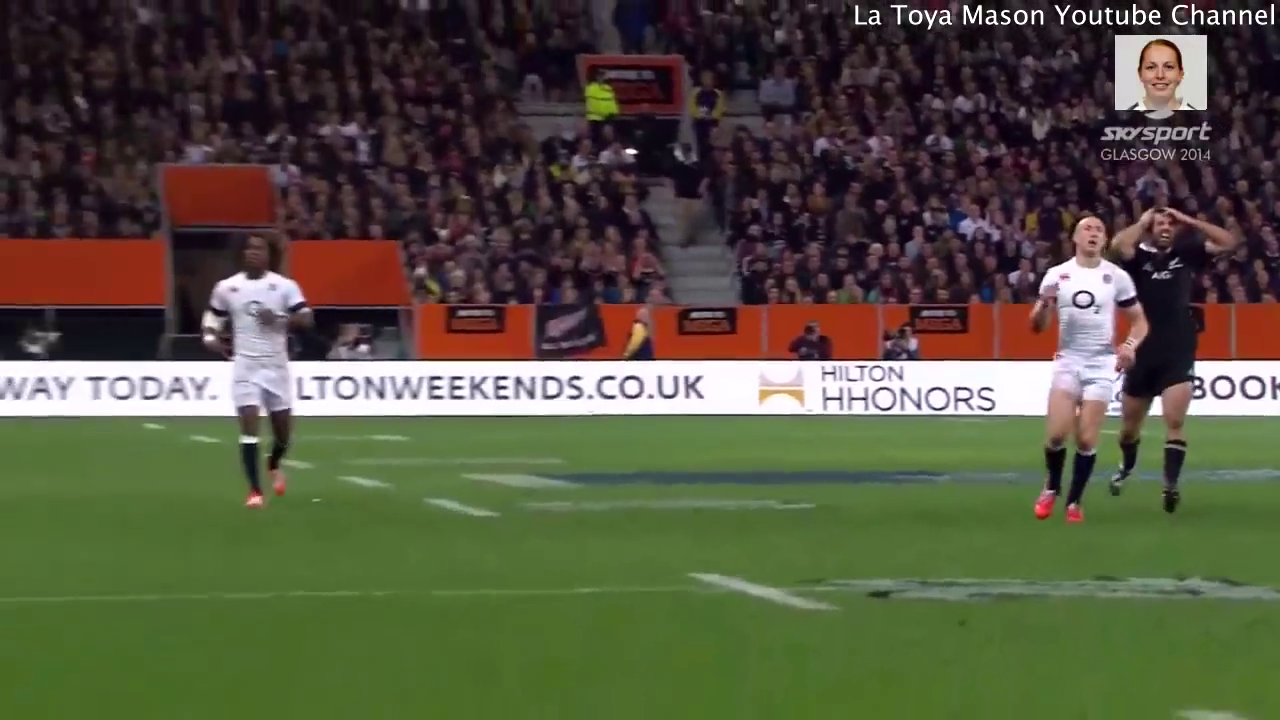player: (1109, 198, 1236, 514), (1026, 215, 1138, 538), (198, 232, 314, 524)
